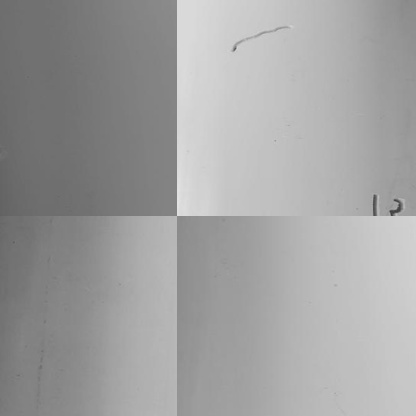fengxi: (230, 22, 289, 53), (388, 194, 402, 219), (370, 191, 379, 217)
